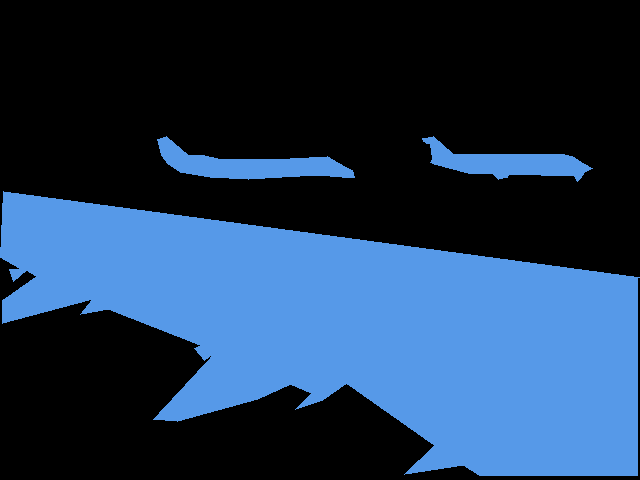Airplane: (0, 191, 640, 475), (157, 136, 355, 180), (422, 136, 592, 181)
